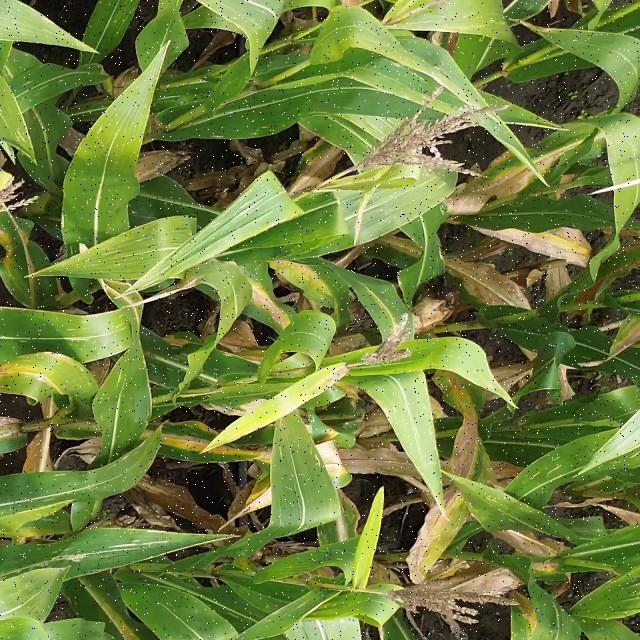gray-leaf-spot: (270, 428, 324, 502), (382, 396, 439, 464), (147, 340, 221, 389), (50, 537, 168, 567), (420, 7, 508, 47), (237, 106, 346, 138), (518, 200, 616, 231), (66, 312, 130, 357), (463, 482, 523, 528), (41, 474, 118, 506), (89, 242, 153, 276), (3, 107, 36, 156), (16, 78, 79, 102), (266, 592, 309, 626), (529, 458, 574, 488)
northern-leaf-blight: (4, 223, 51, 296), (154, 424, 238, 459), (244, 278, 297, 326), (14, 364, 82, 401), (324, 505, 359, 546)
